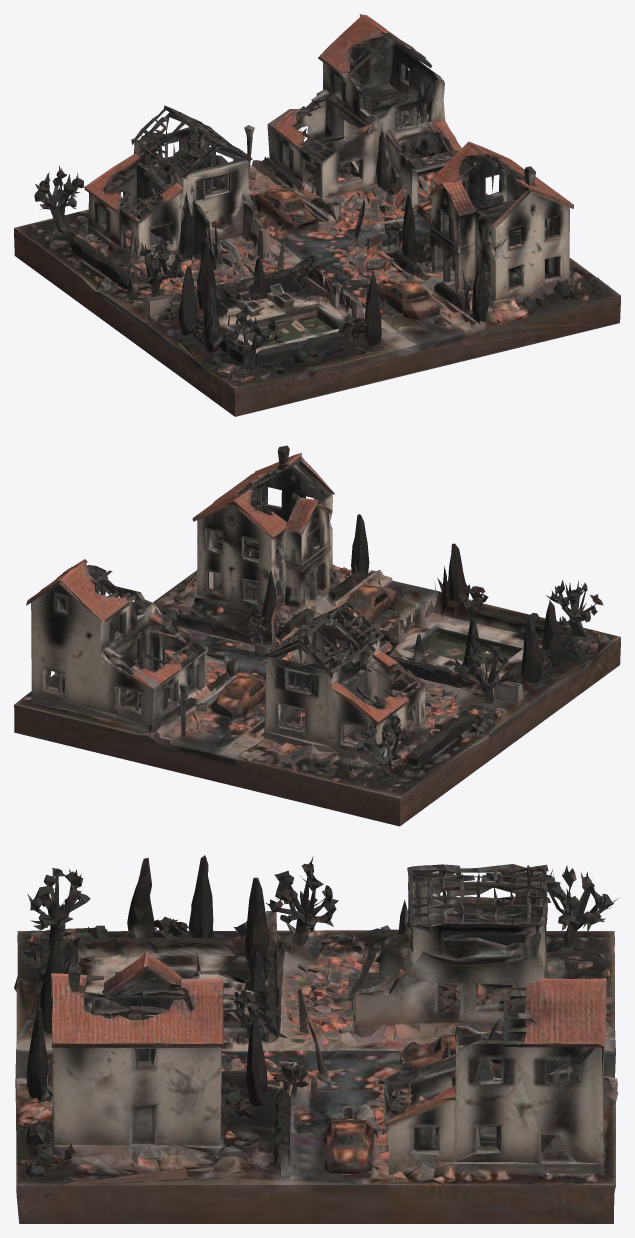
The model's file is residenziali_dev.glb.
The picture shows the model from 3 angles, top to bottom: view 1: azimuth 30°, elevation 25°; view 2: azimuth 150°, elevation 25°; view 3: azimuth 270°, elevation 25°; orthographic projection. The views are drawn at different scales.
Visible parts, largest first — view 1: output_unwrapped; view 2: output_unwrapped; view 3: output_unwrapped.
Boxes of the visible parts, <box> form: output_unwrapped: <box>14,14,620,416</box>; output_unwrapped: <box>14,445,620,826</box>; output_unwrapped: <box>14,855,618,1223</box>.
Bounding box in the file's own units: 1.9 × 0.7495 × 1.9.
1 material, 1 textured.
